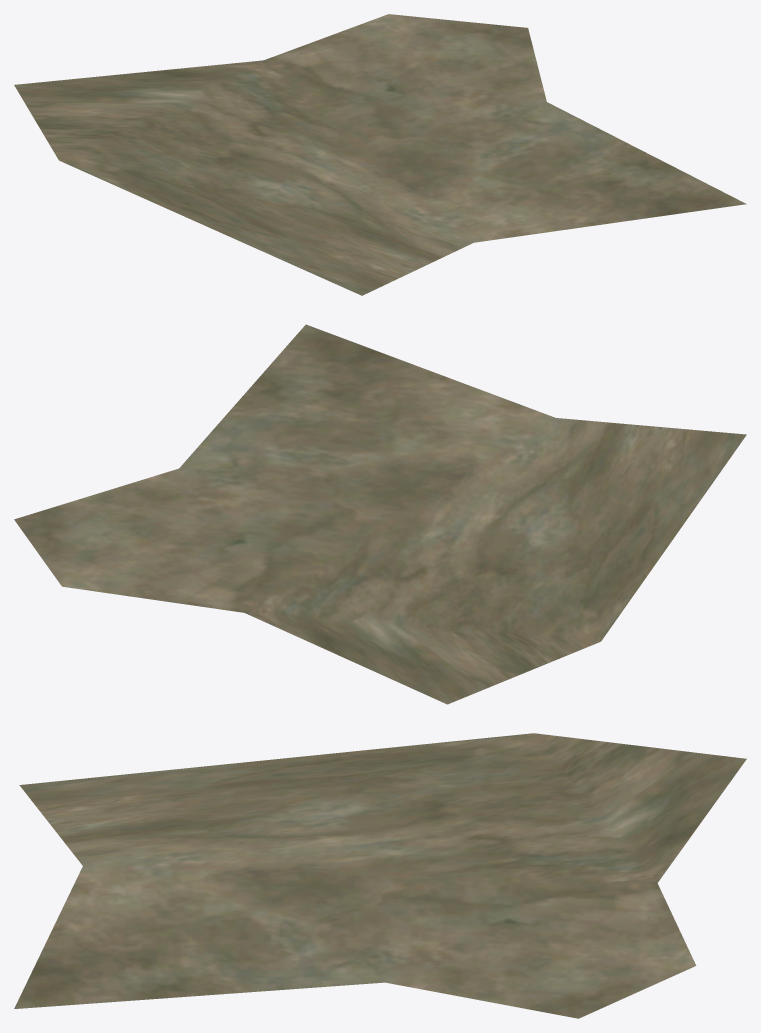
Rendered from OVERHILL_A_01_GROUND1.fbx.
3 renders of one model, top to bottom at view 1: azimuth 30°, elevation 25°; view 2: azimuth 150°, elevation 25°; view 3: azimuth 270°, elevation 25°, orthographic. The views are drawn at different scales.
Visible parts, largest first — view 1: OVERHILL_A_01_GROUND1; view 2: OVERHILL_A_01_GROUND1; view 3: OVERHILL_A_01_GROUND1.
Boxes of the visible parts, x1,y1,x2,y2 form: OVERHILL_A_01_GROUND1: (14, 14, 746, 295); OVERHILL_A_01_GROUND1: (14, 324, 746, 704); OVERHILL_A_01_GROUND1: (14, 733, 746, 1018).
Bounding box in the file's own units: 13373 × 0.00847 × 14505.
Materials: 1 (1 with a texture image).
